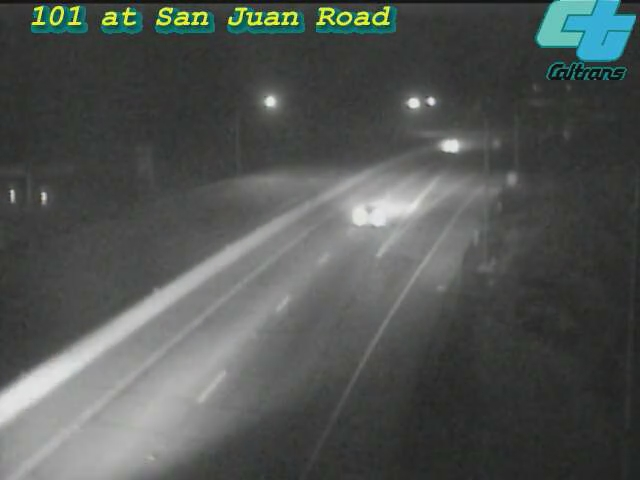vehicle: (330, 178, 410, 258), (426, 121, 476, 171)
